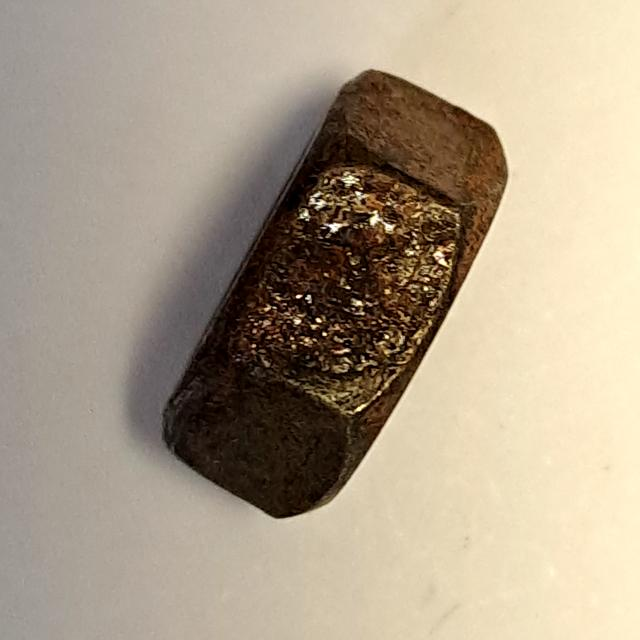Side_Rust: (149, 55, 516, 536)
